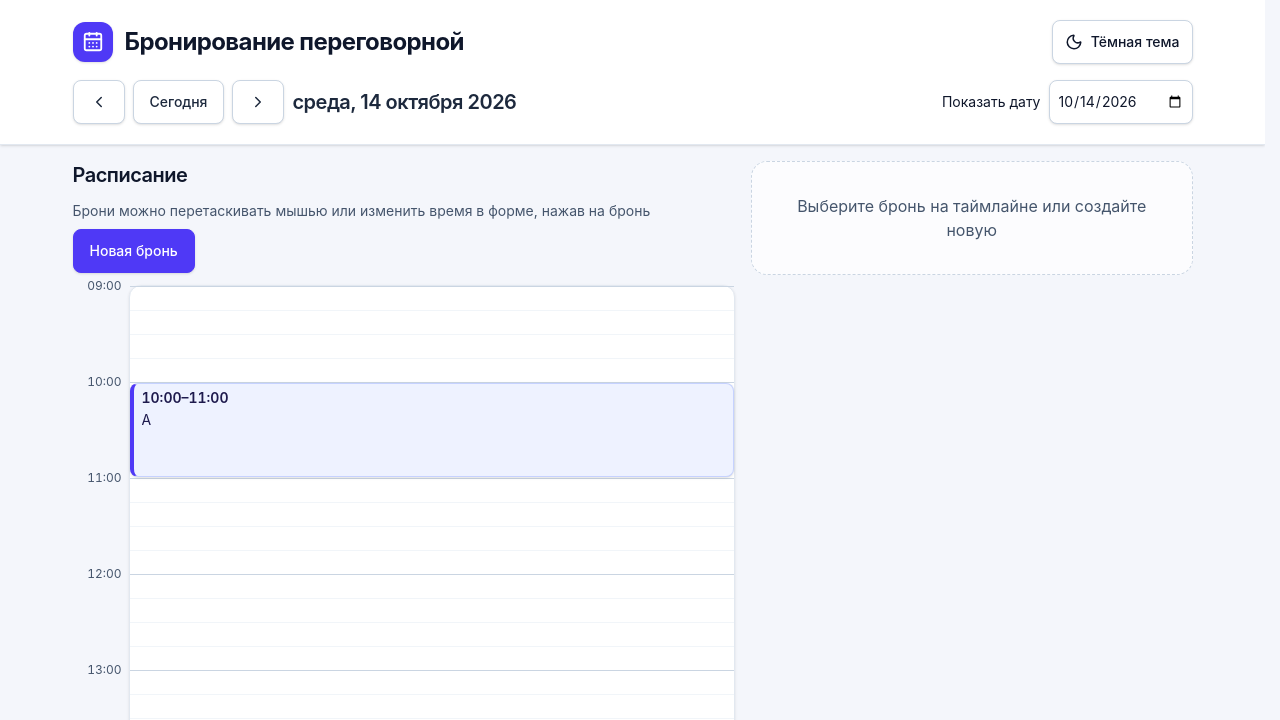
Test: 4. edit without self-conflict › extends its own booking
Click the button named "10:00–11:00, A". click: x=185, y=398
box: [130,383,734,477]
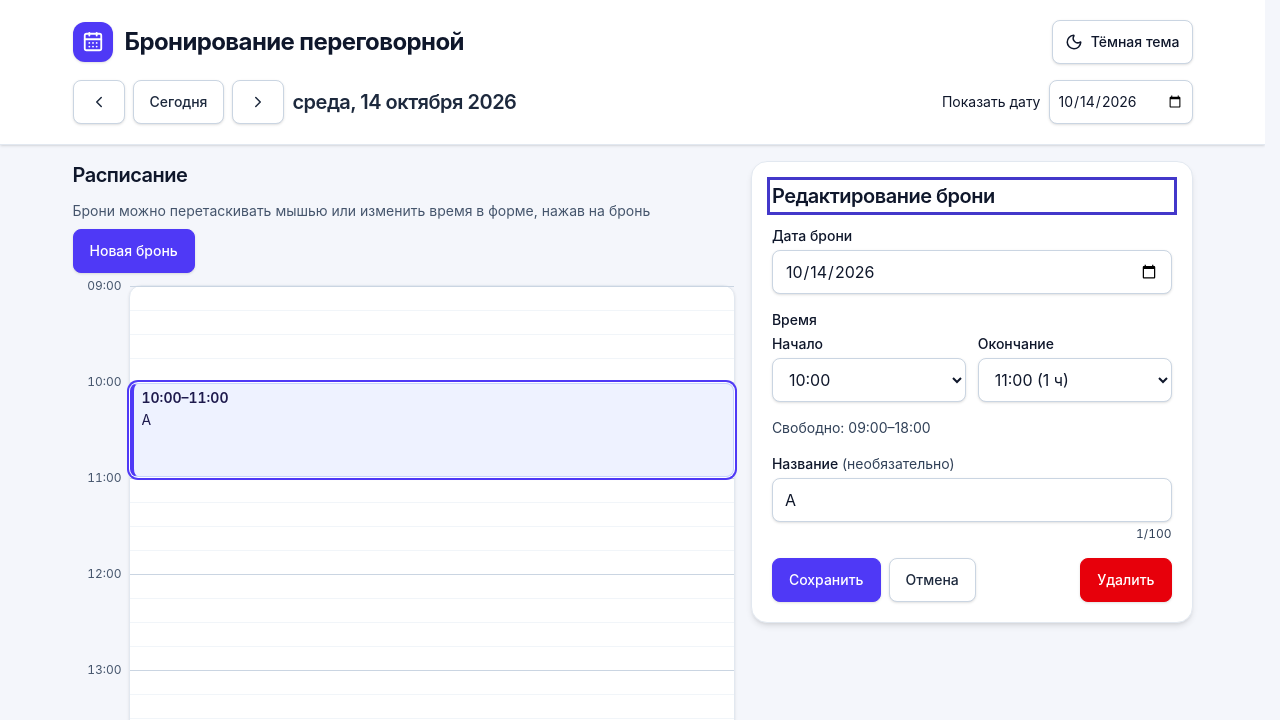
Expected: the heading "Редактирование брони" is shown, [772,184,995,208]
Select "11:30 (1 ч 30 мин)" in the dropdown labelled "Окончание". click: x=1075, y=380
box: [978,358,1172,402]
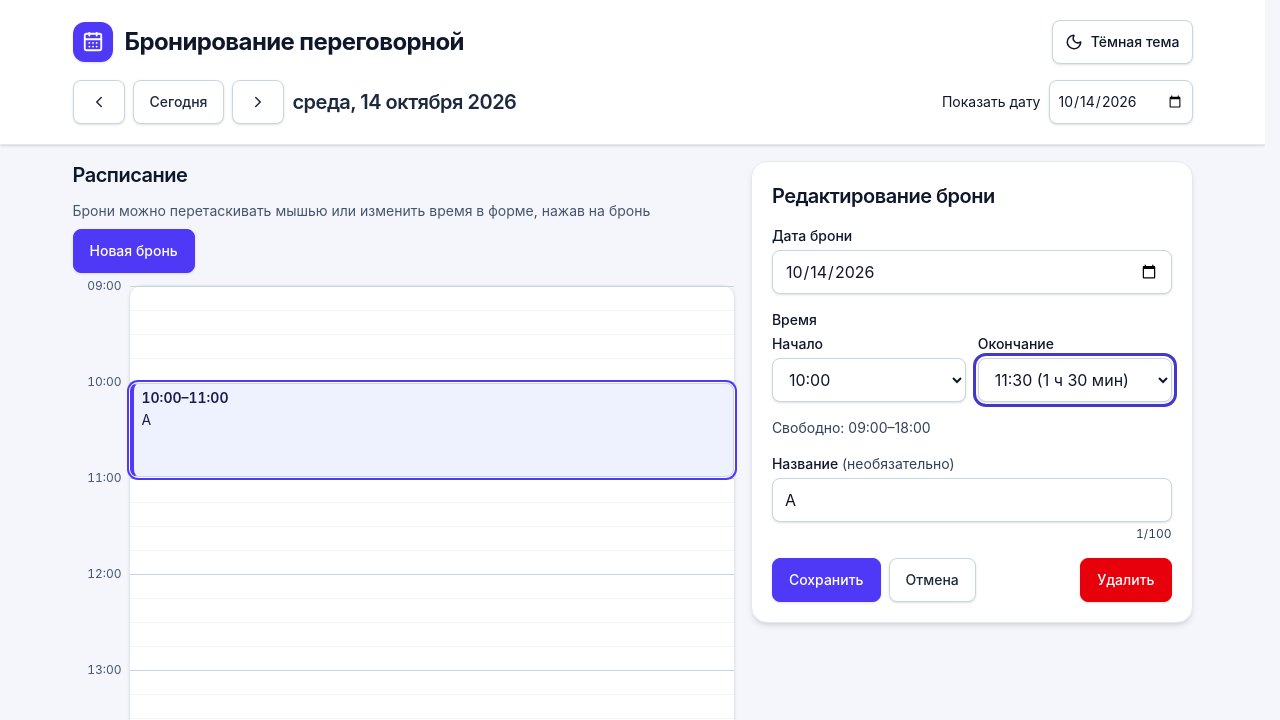
Click the button "Сохранить". click: x=826, y=580
box: [772,558,881,602]
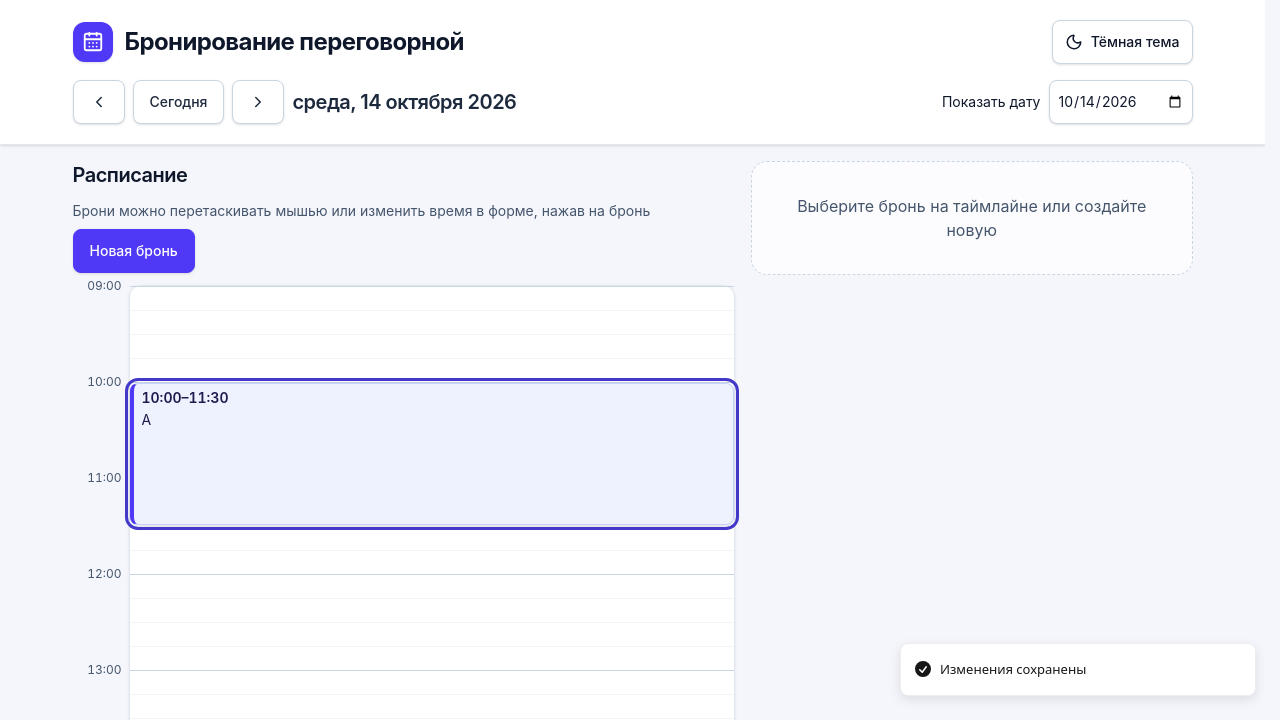
Expected: the text "Изменения сохранены" is shown, [940,660,1086,679]
